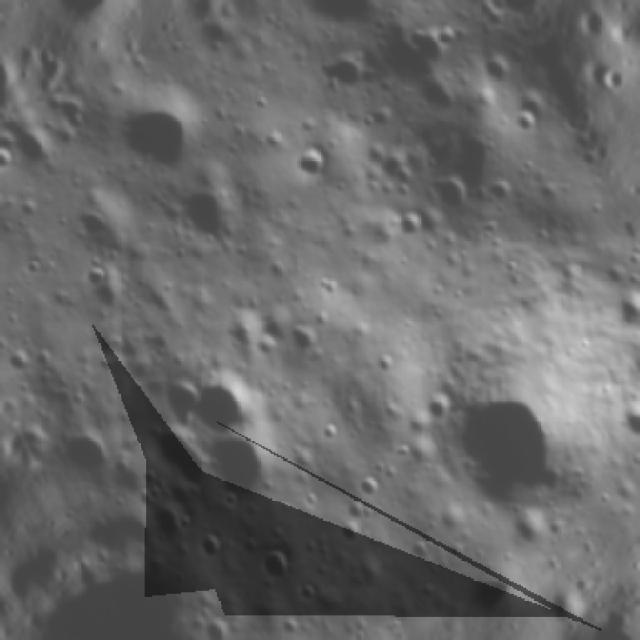crater: (421, 355, 585, 520), (107, 84, 216, 190), (195, 417, 294, 518), (160, 163, 254, 262), (177, 360, 266, 451), (278, 0, 396, 51), (47, 422, 118, 491), (308, 42, 378, 110), (419, 165, 479, 222), (135, 493, 194, 549), (66, 200, 120, 254), (283, 138, 337, 190), (603, 386, 640, 456), (278, 314, 328, 364), (600, 278, 640, 340), (252, 542, 299, 592), (473, 43, 518, 89), (385, 198, 429, 245), (192, 524, 234, 570), (479, 168, 521, 212), (504, 102, 547, 143), (337, 492, 377, 533), (348, 470, 388, 510), (330, 513, 368, 553), (198, 607, 244, 640), (288, 574, 326, 612), (0, 139, 25, 181), (391, 0, 471, 12)
